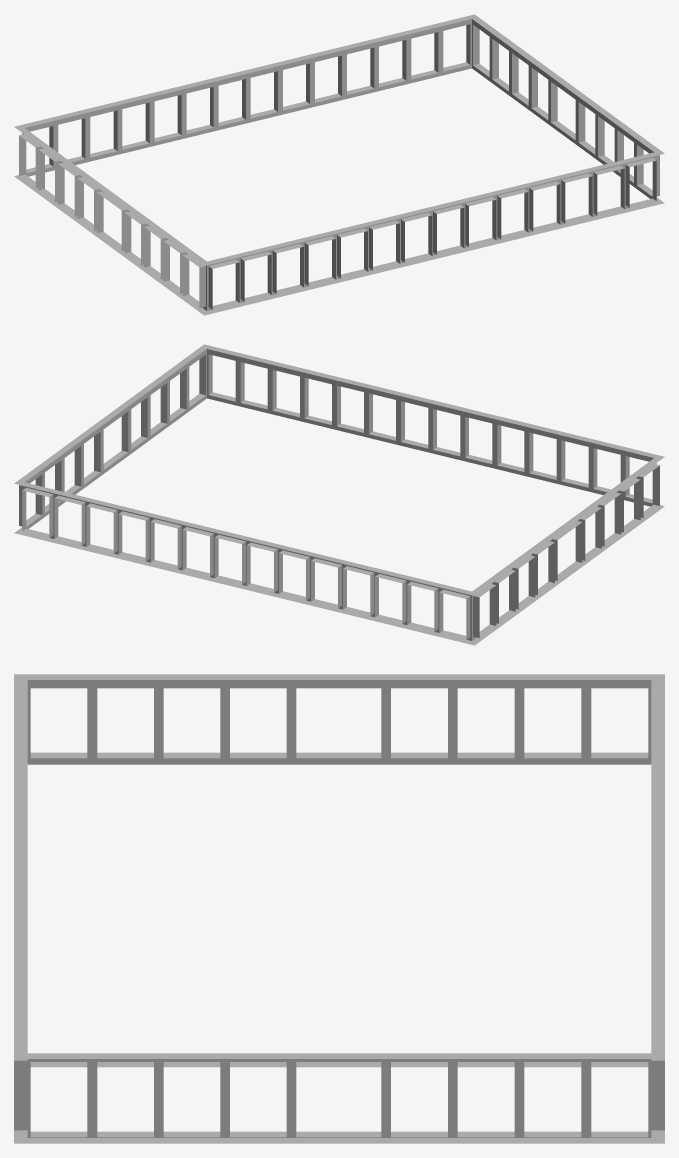
File: RAOTUONGBONGRO.fbx
3 renders of one model, top to bottom at view 1: azimuth 30°, elevation 25°; view 2: azimuth 150°, elevation 25°; view 3: azimuth 270°, elevation 25°, orthographic. The views are drawn at different scales.
Visible parts, largest first — view 1: RAOTUONGBONGRO; view 2: RAOTUONGBONGRO; view 3: RAOTUONGBONGRO.
Part boxes in pixels (x1,y1,x2,y2): RAOTUONGBONGRO: [14, 14, 664, 315]; RAOTUONGBONGRO: [14, 344, 664, 645]; RAOTUONGBONGRO: [14, 674, 664, 1143].
Size of the model in its own units: 5363 by 551 by 3836.
